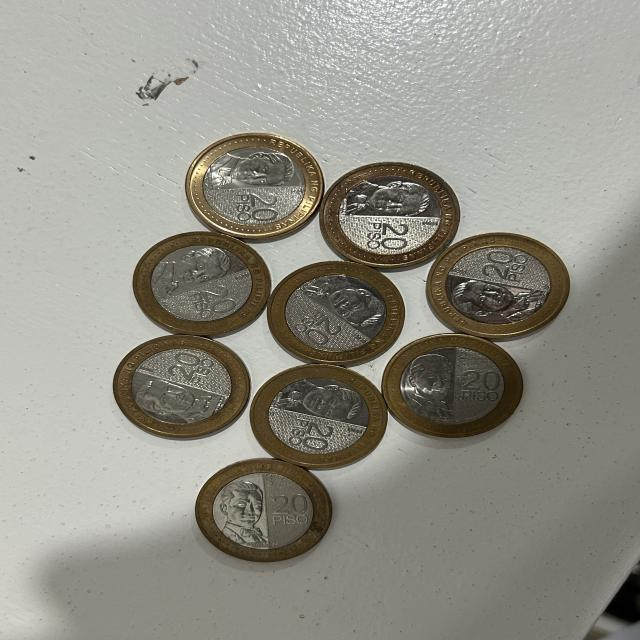20_New_Front: (267, 465, 309, 543), (184, 278, 248, 328), (470, 242, 531, 291), (362, 220, 427, 261), (222, 187, 289, 226), (294, 310, 350, 353), (280, 415, 342, 452), (167, 348, 218, 391), (463, 360, 511, 403)
